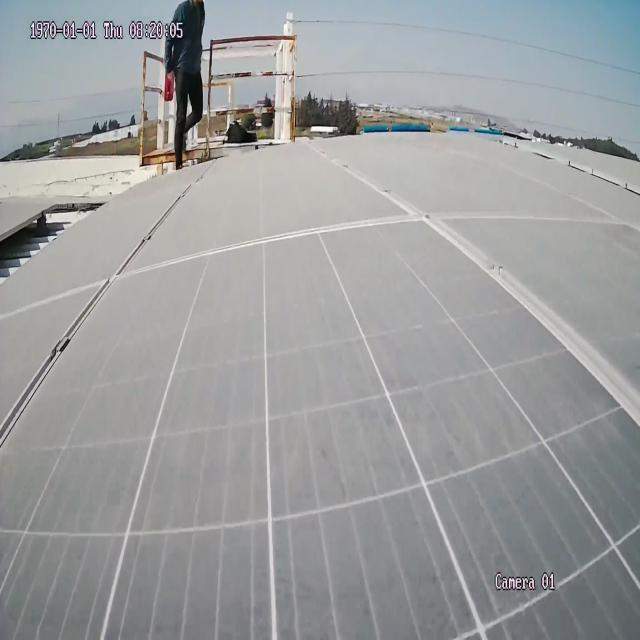interior panel: (299, 134, 640, 443), (0, 157, 227, 462)
